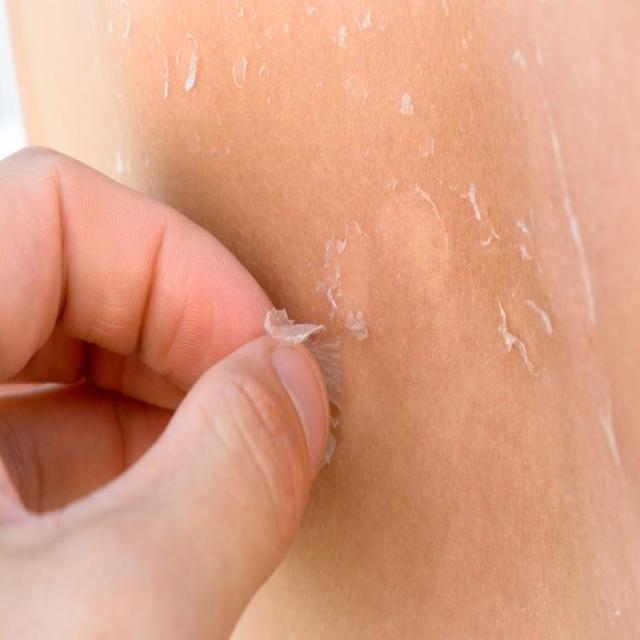Dry-Skin: (260, 266, 368, 410), (558, 114, 602, 318), (158, 31, 258, 109), (488, 274, 559, 365), (460, 165, 518, 258), (596, 391, 640, 481)
